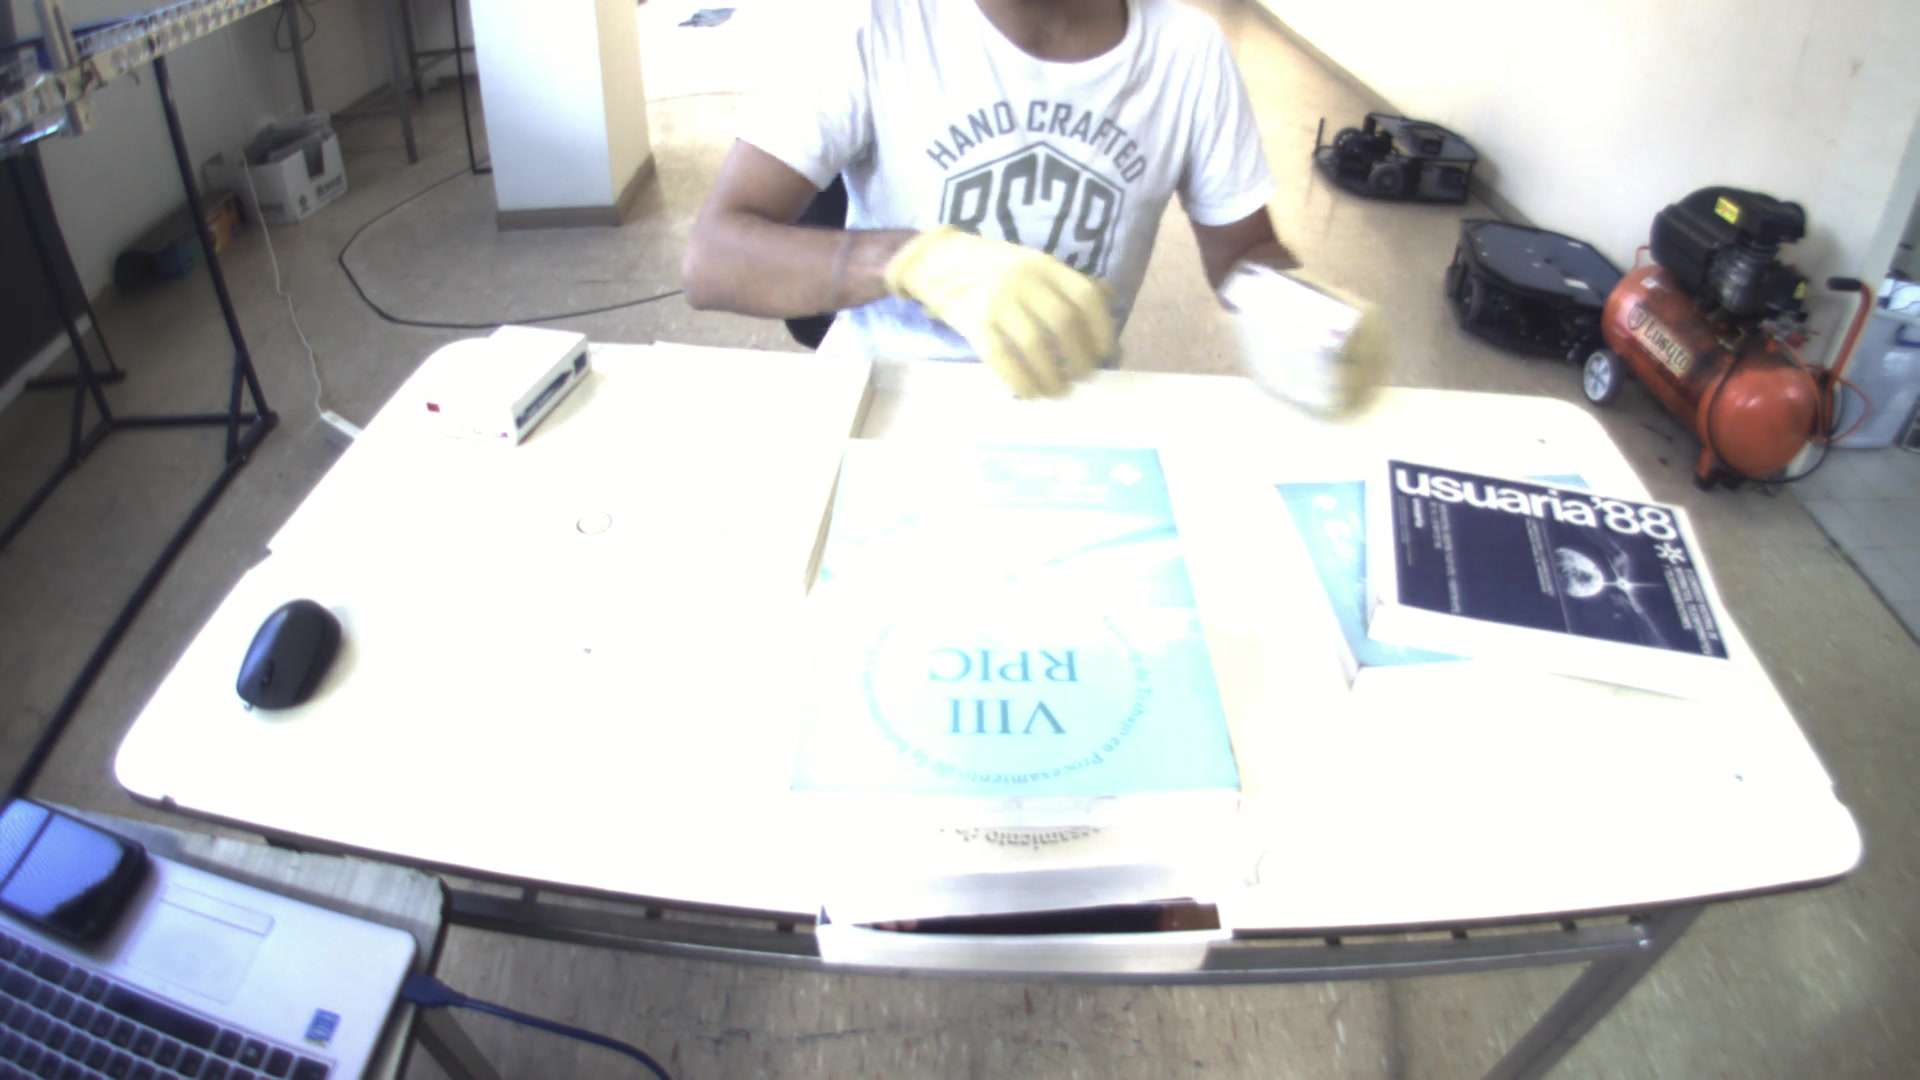hand: (872, 211, 1130, 400), (1216, 258, 1398, 431)
